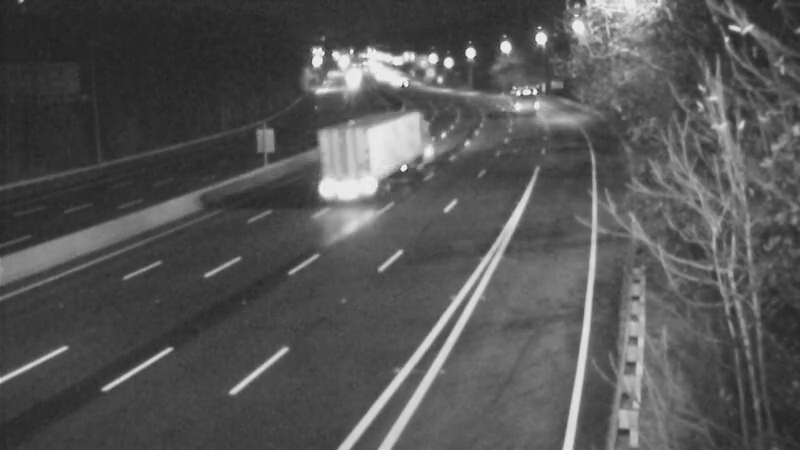vehicle: (321, 120, 401, 200), (381, 54, 431, 104), (488, 68, 538, 118)
